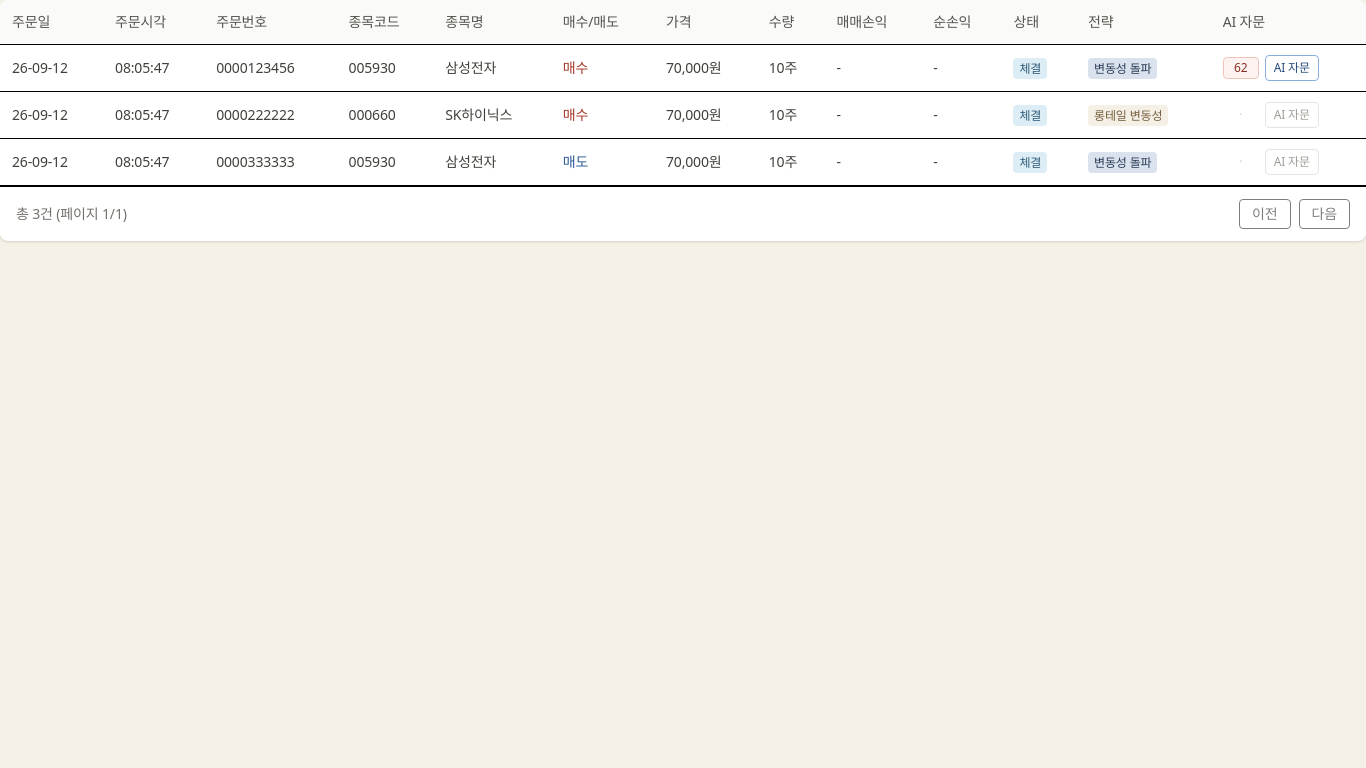
cycle276 — TradeHistoryGrid AI 자문 열 (Red) › F18 버튼을 누르면 그 주문번호의 모달이 열린다 (날짜는 KST 사영)
Click the button "AI 자문" next to "62" at (1292, 68), box x1=1265 y1=55 x2=1319 y2=81
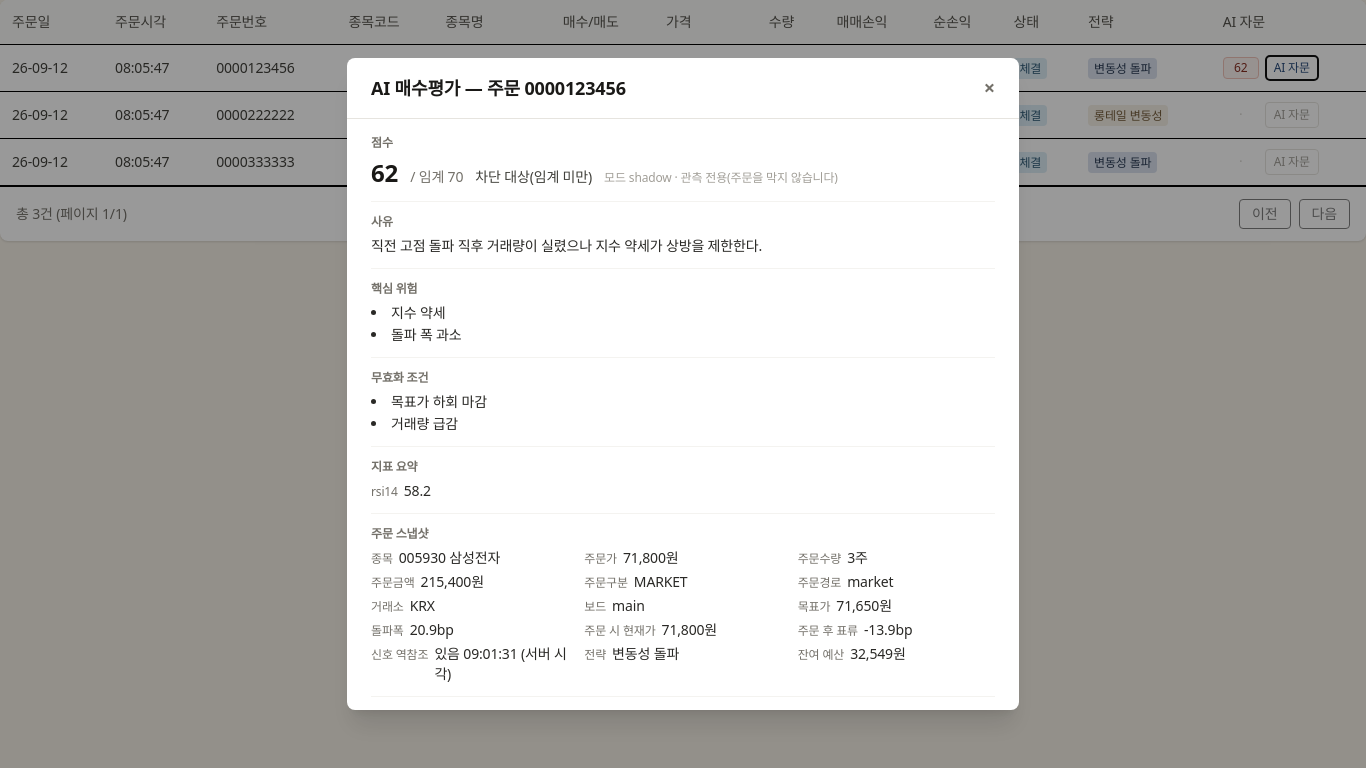
Expected: the element with test id "llm-eval-modal" shows "62", x1=371 y1=156 x2=398 y2=189
